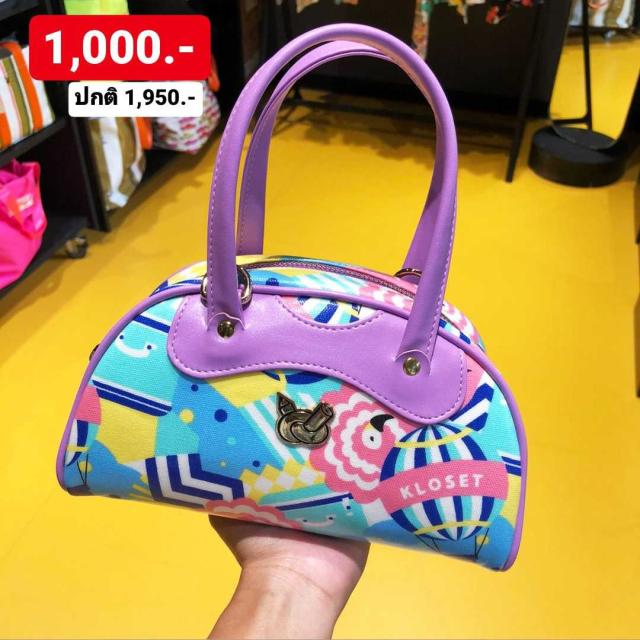Handbag: (53, 179, 528, 577)
